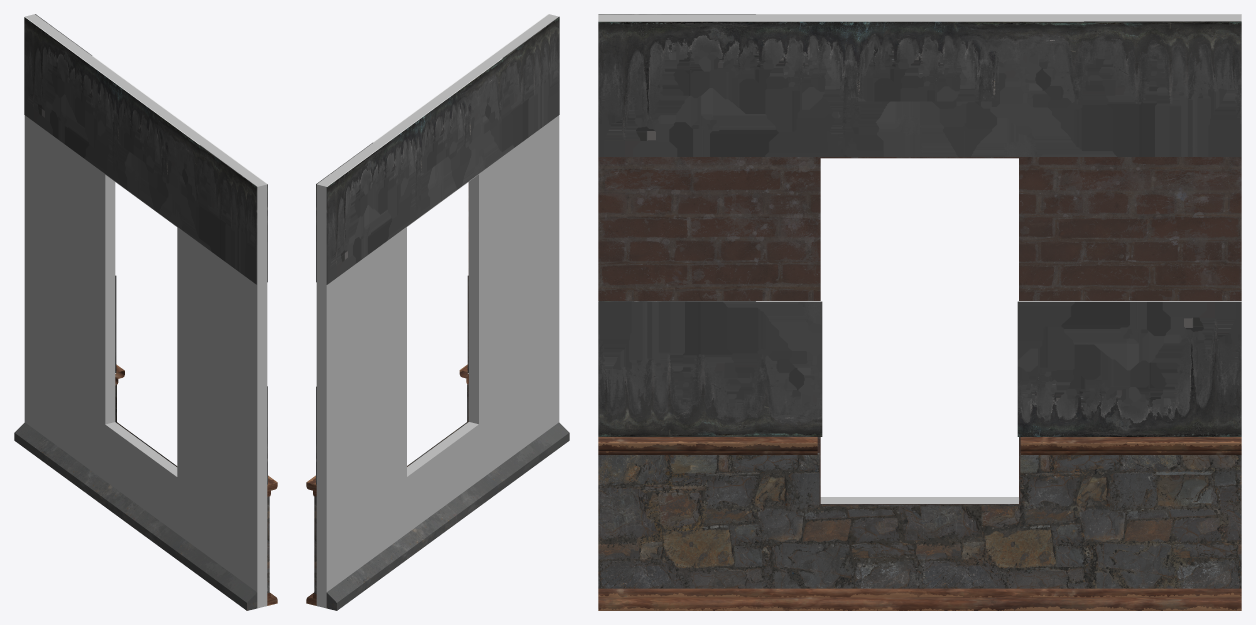
File: Kit_BricksDoor.fbx
The picture shows the model from 3 angles, left to right: view 1: azimuth 30°, elevation 25°; view 2: azimuth 150°, elevation 25°; view 3: azimuth 270°, elevation 25°; orthographic projection. The views are drawn at different scales.
Visible parts, largest first — view 1: Kit_BricksDoor; view 2: Kit_BricksDoor; view 3: Kit_BricksDoor.
Part boxes in pixels (x1,y1,x2,y2): Kit_BricksDoor: [14, 14, 277, 610]; Kit_BricksDoor: [306, 14, 569, 610]; Kit_BricksDoor: [598, 14, 1241, 610].
Size of the model in its own units: 11.91 by 157 by 157.
